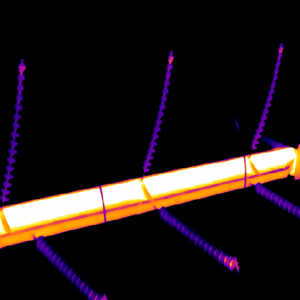insulator: (157, 205, 237, 271), (35, 234, 107, 300), (142, 50, 175, 170), (248, 43, 284, 150), (0, 60, 24, 203), (252, 181, 300, 216)
